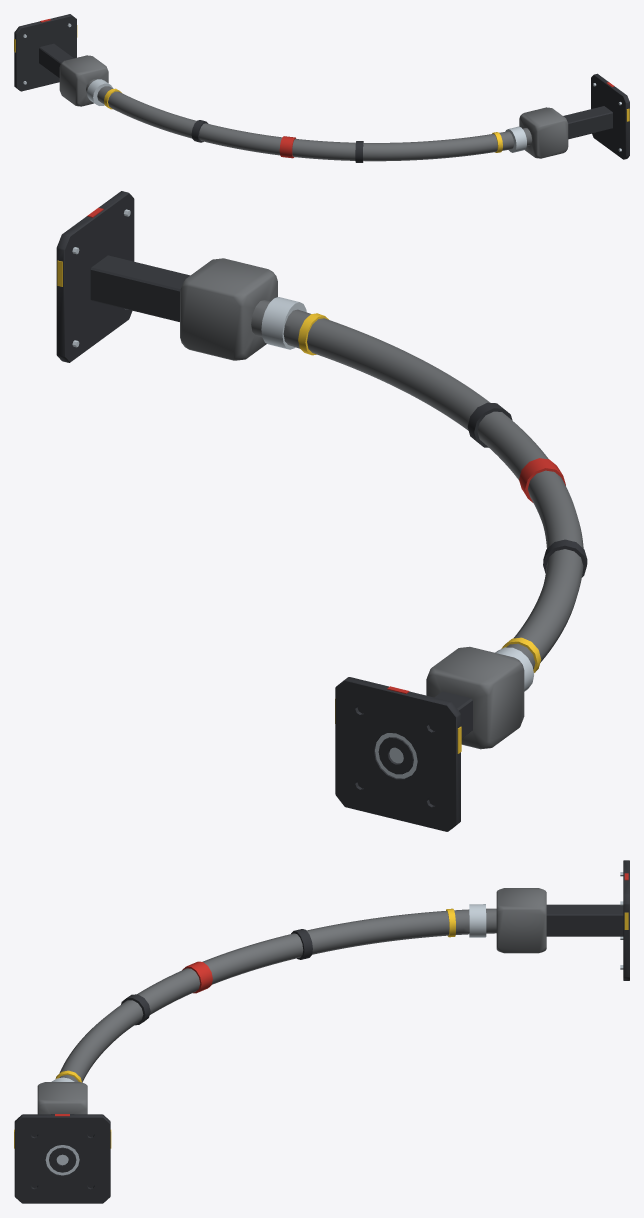
The model's file is R4C_ROD_ARC_LONG.glb.
The picture shows the model from 3 angles, top to bottom: view 1: azimuth 30°, elevation 25°; view 2: azimuth 150°, elevation 25°; view 3: azimuth 270°, elevation 25°; orthographic projection. The views are drawn at different scales.
Visible parts, largest first — view 1: R4C_ROD_ARC_LONG; view 2: R4C_ROD_ARC_LONG; view 3: R4C_ROD_ARC_LONG.
Part boxes in pixels (bbox=[...]): R4C_ROD_ARC_LONG: bbox=[14, 14, 629, 162]; R4C_ROD_ARC_LONG: bbox=[56, 191, 587, 831]; R4C_ROD_ARC_LONG: bbox=[14, 860, 629, 1203].
Bounding box in the file's own units: 1.48 × 0.2316 × 1.48.
